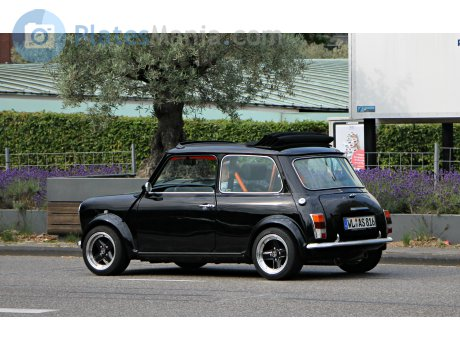License Plates: (347, 218, 379, 224)
